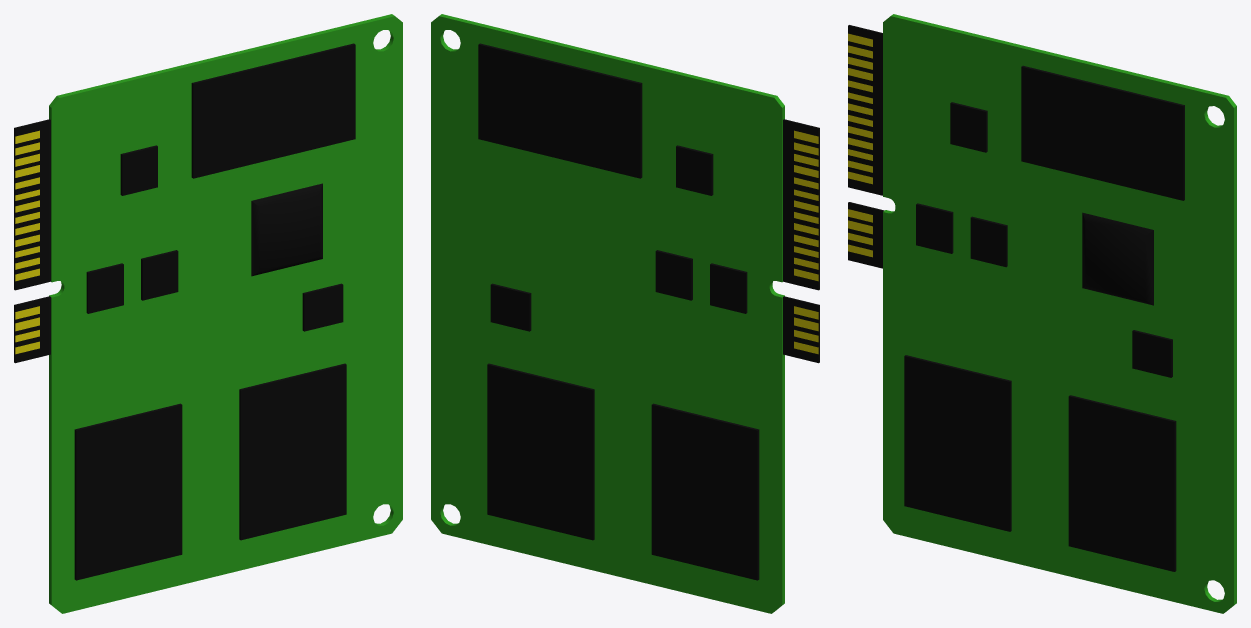
The model's file is Electronics board.001.fbx.
3 views of the same model, side by side, from view 1: azimuth 30°, elevation 25°; view 2: azimuth 150°, elevation 25°; view 3: azimuth 330°, elevation 25° (orthographic).
Visible parts, largest first — view 1: Electronics board.001; view 2: Electronics board.001; view 3: Electronics board.001.
Part boxes in pixels (x1,y1,x2,y2): Electronics board.001: (14, 14, 402, 613); Electronics board.001: (431, 14, 819, 613); Electronics board.001: (848, 14, 1236, 613).
Bounding box in the file's own units: 3.06 × 3.91 × 0.0965.
